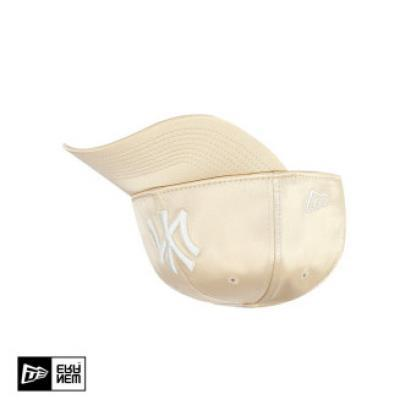cap: (54, 111, 352, 312)
